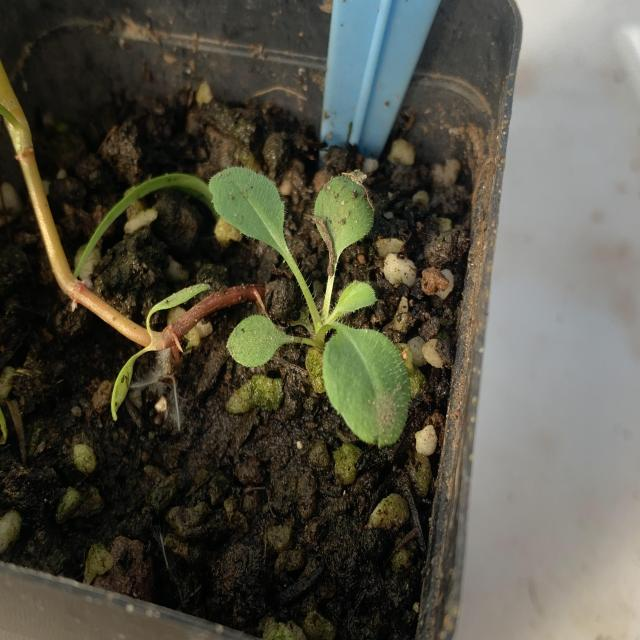horseweed: (203, 146, 411, 443)
